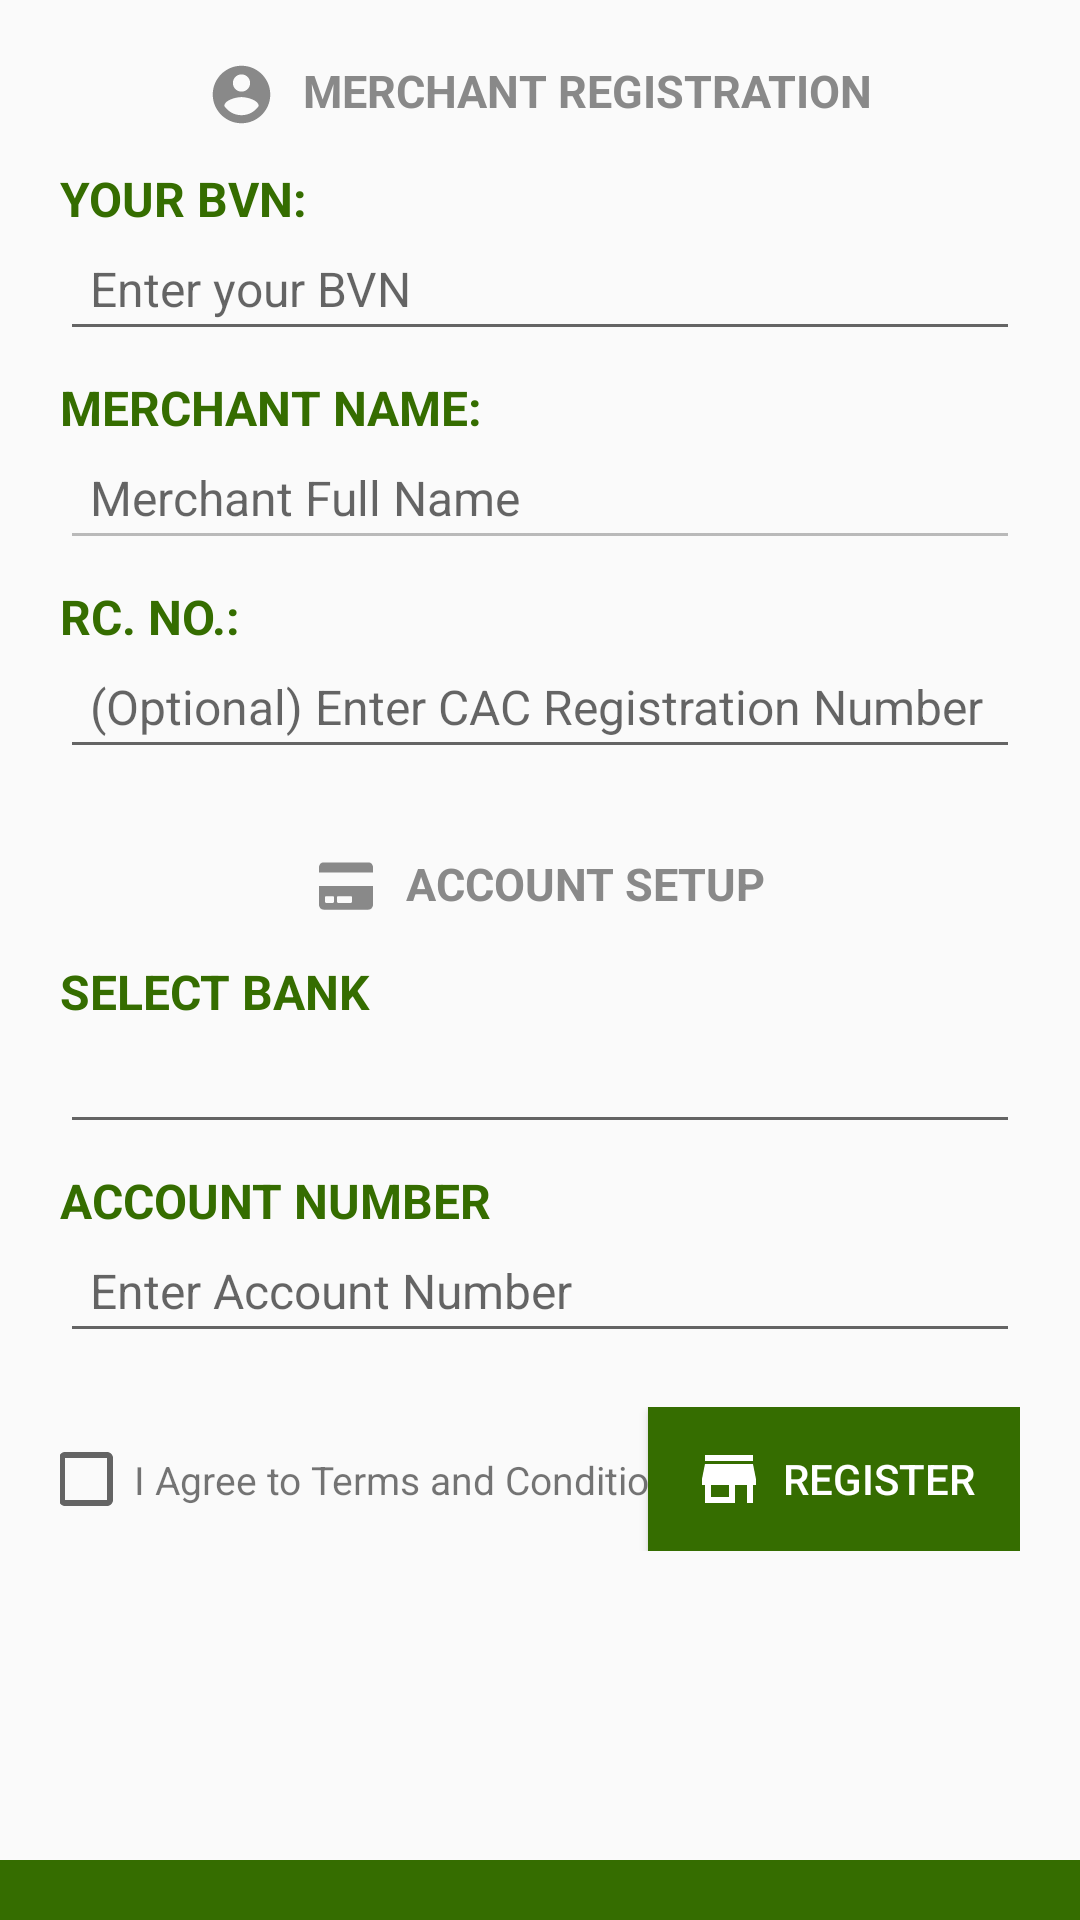

Where icons sit on this 1080×1920 app screen, as (x1, y1, x2, y2):
account circle: (212, 65, 271, 124)
credit card: (319, 862, 373, 910)
